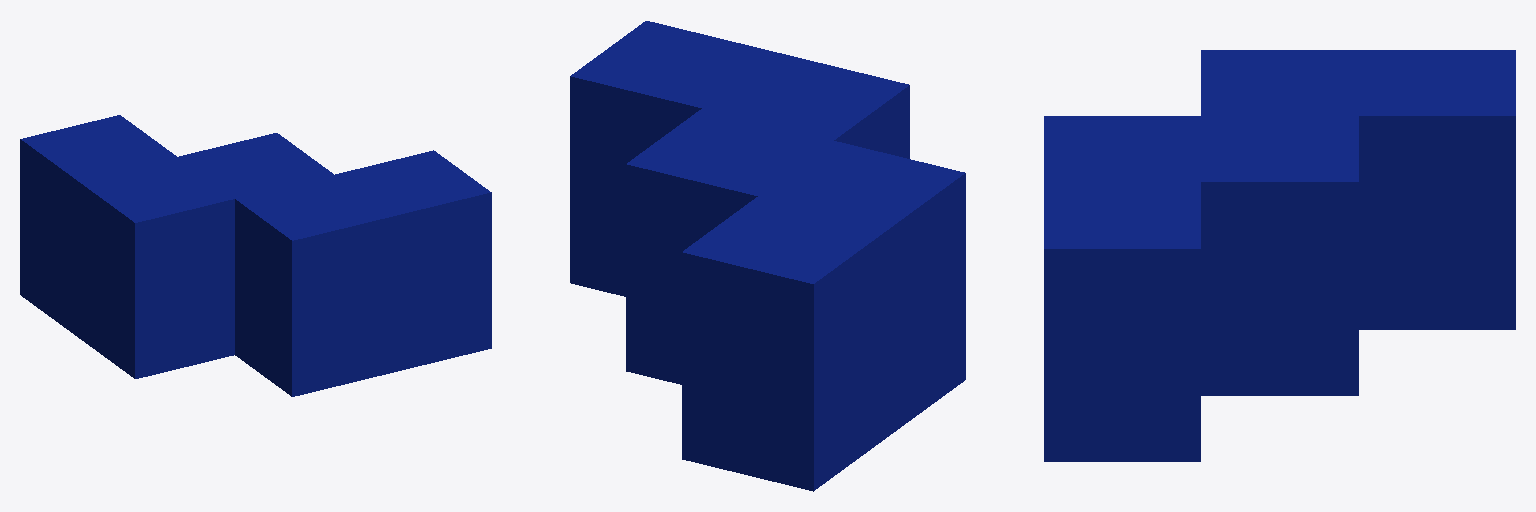
robot.urdf — block:
<robot name="block">
  <link name="block_base_link">

    <inertial>
      <origin rpy="0 0 0" xyz="0.026 0.006 0.015"/>
      <mass value="0.5"/>
      <inertia ixx="1.994e-05" ixy="-1.056e-05" ixz="0.0" iyy="1.994e-05" iyz="0.0" izz="3.088e-05"/>
    </inertial>
    <collision>
      
      <geometry>
        <mesh filename="6.STL" scale="1 1 1"/>
      </geometry>
    </collision>
    <visual>
 
      <geometry>
        <mesh filename="6.STL" scale="1 1 1"/>
      </geometry>
      <material name="tray_material">
        <color rgba="0.1 0.2 0.6 1"/>
      </material>
    </visual>
  </link>
</robot>

--- Render facts (derived) ---
3 views of the same robot in one strip: view 1: azimuth 30°, elevation 25°; view 2: azimuth 150°, elevation 25°; view 3: azimuth 270°, elevation 25° (orthographic).
Model block with 1 links and 0 joints (none), rooted at block_base_link, posed every joint at zero.
Visible links, largest first — view 1: block_base_link; view 2: block_base_link; view 3: block_base_link.
Link boxes in pixels (<box>): block_base_link: <box>20,115,491,396</box>; block_base_link: <box>570,21,965,491</box>; block_base_link: <box>1044,50,1515,461</box>.
Bounding box of the posed robot: 0.06 × 0.06 × 0.03 m (x, y, z).
Meshes: 1 distinct files referenced, 1 mesh visuals loaded (1 binary STL).